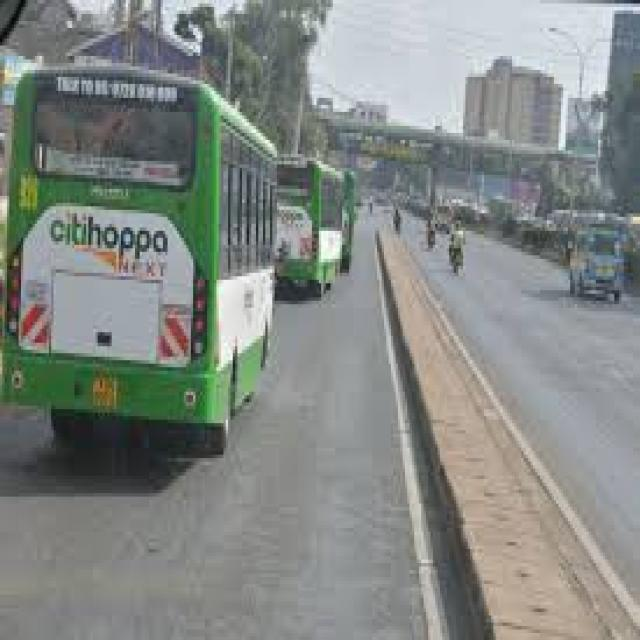bus: (3, 25, 284, 486)
